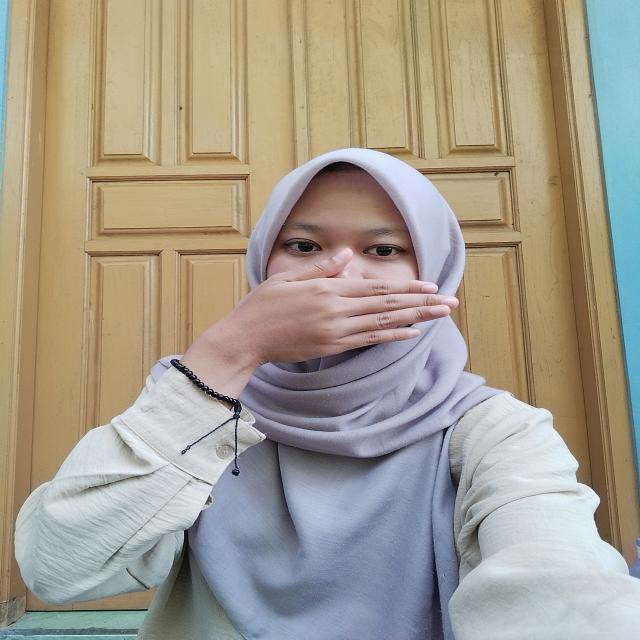buruk: (227, 241, 469, 368)
